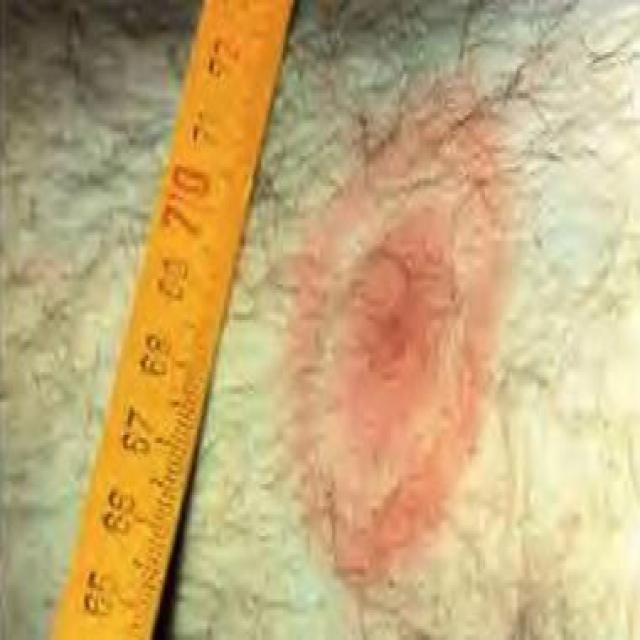Ringworm: (277, 57, 528, 588)
